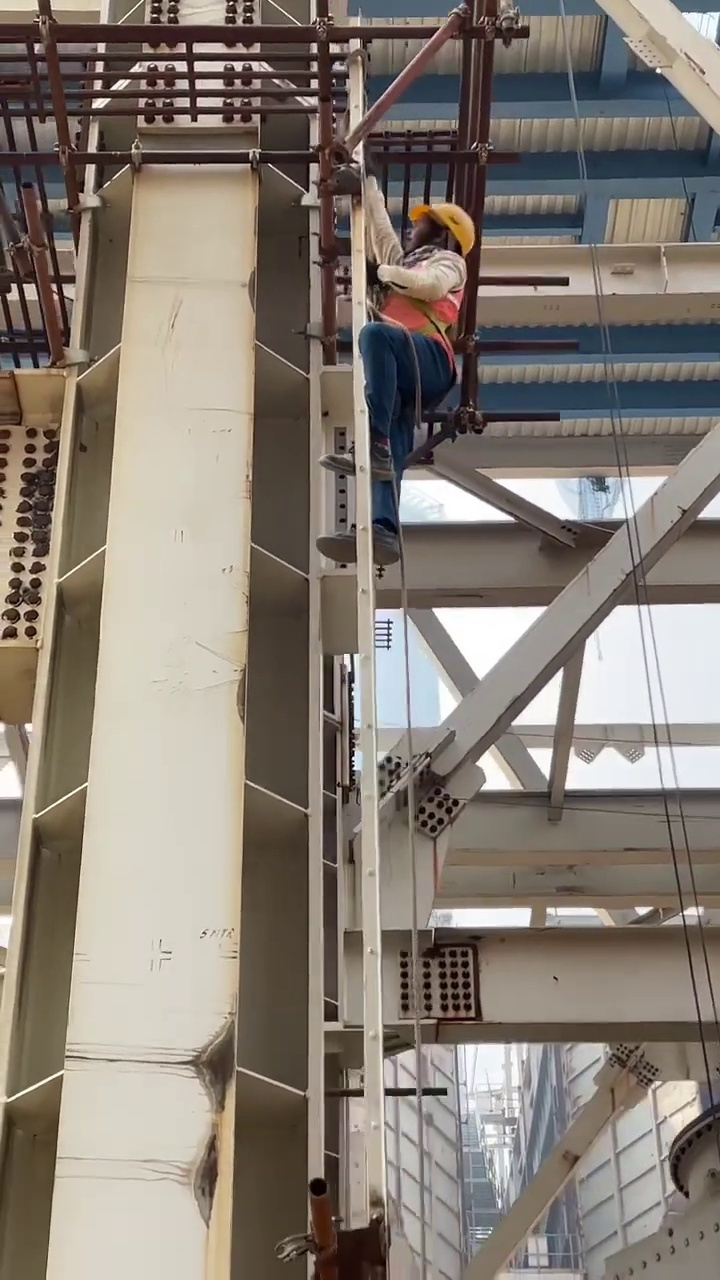Helmet: (409, 199, 475, 246)
Person: (309, 198, 476, 578)
Safety_Harness: (380, 286, 461, 412)
Safety_shoes: (314, 523, 400, 569), (323, 438, 395, 479)
